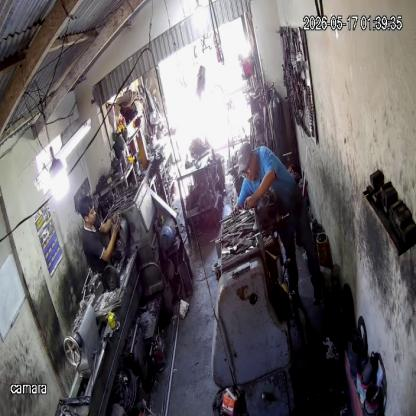lentes: (237, 166, 252, 180)
